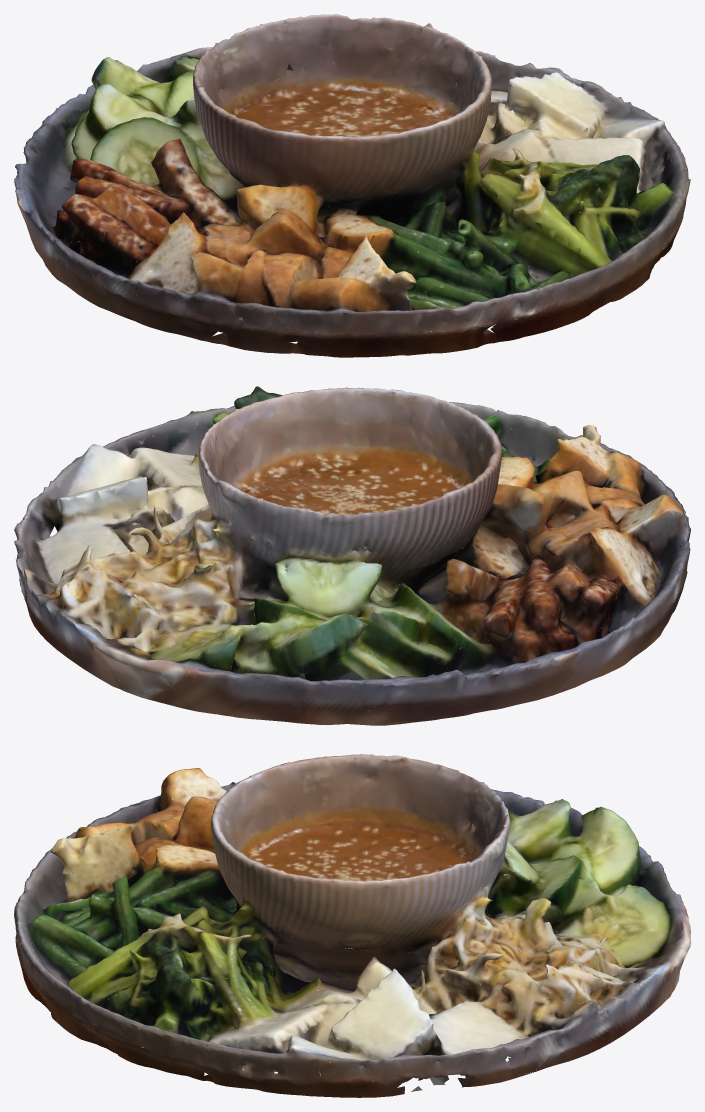
File: vegano-rito.glb
3 renders of one model, top to bottom at view 1: azimuth 30°, elevation 25°; view 2: azimuth 150°, elevation 25°; view 3: azimuth 270°, elevation 25°, orthographic.
Parts seen in each view (by area): view 1: parte1, parte0; view 2: parte1, parte0; view 3: parte1, parte0, parte2.
Part boxes in pixels (x1,y1,x2,y2): parte1: (14, 17, 686, 357); parte0: (14, 14, 690, 348); parte1: (15, 387, 690, 725); parte0: (14, 386, 689, 725); parte1: (14, 754, 690, 1097); parte0: (14, 755, 687, 1091); parte2: (187, 927, 233, 980).
Size of the model in its own units: 0.2672 by 0.063 by 0.2715.
1 material, 1 textured.
